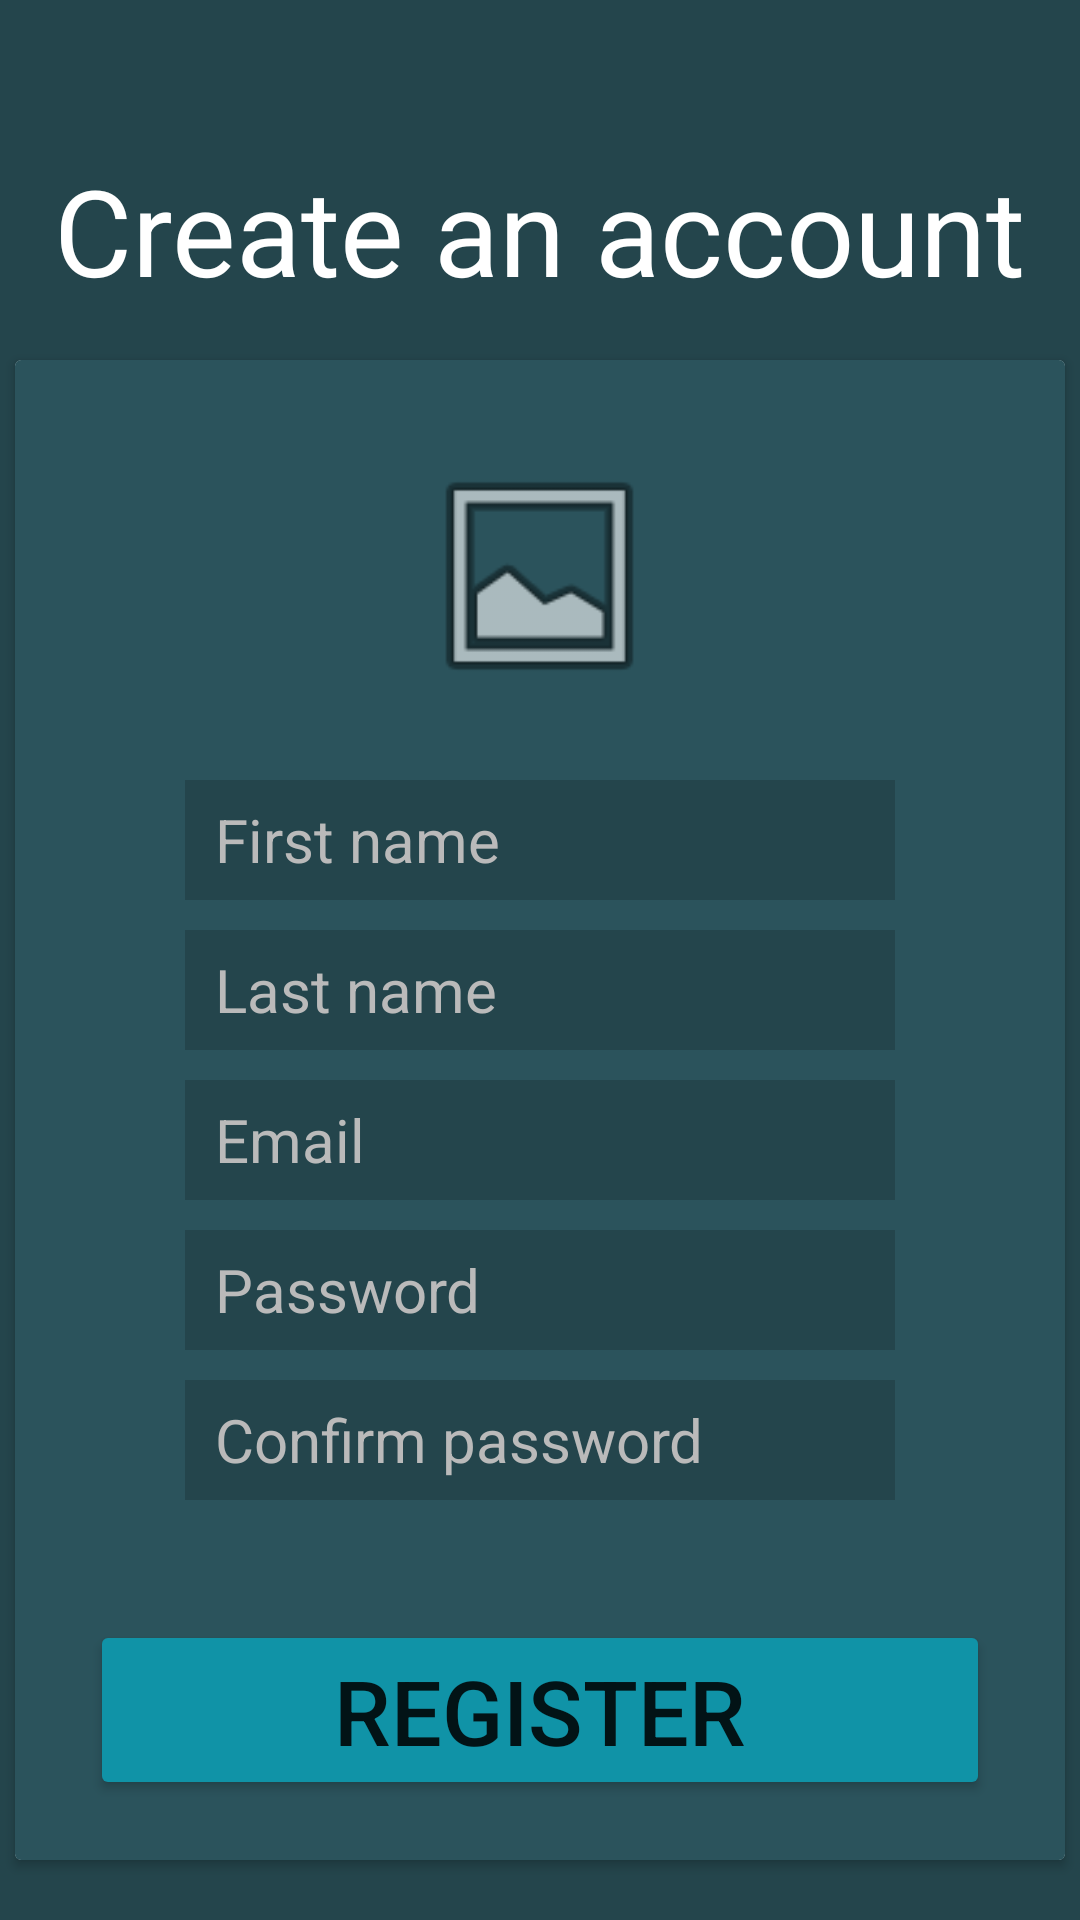

Screen size 1080 x 1920. Icon name, then its center in pixels as (x=x, y=y):
gallery: (x=539, y=576)
